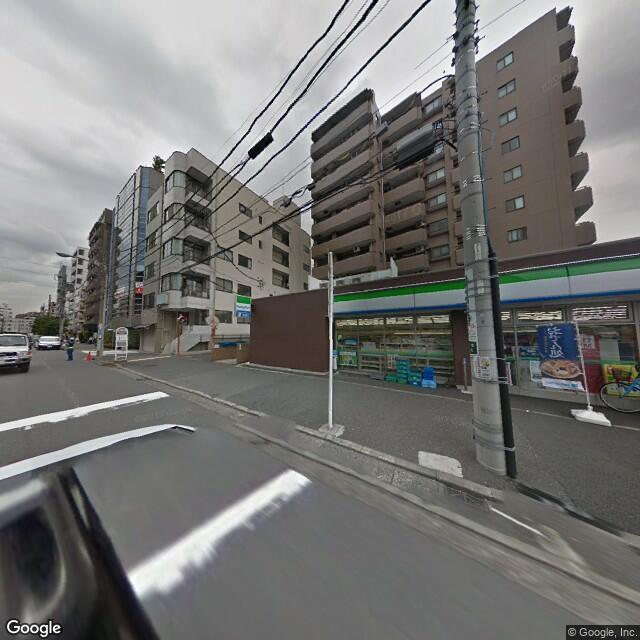family_mart: (333, 252, 638, 314), (235, 293, 249, 319)
